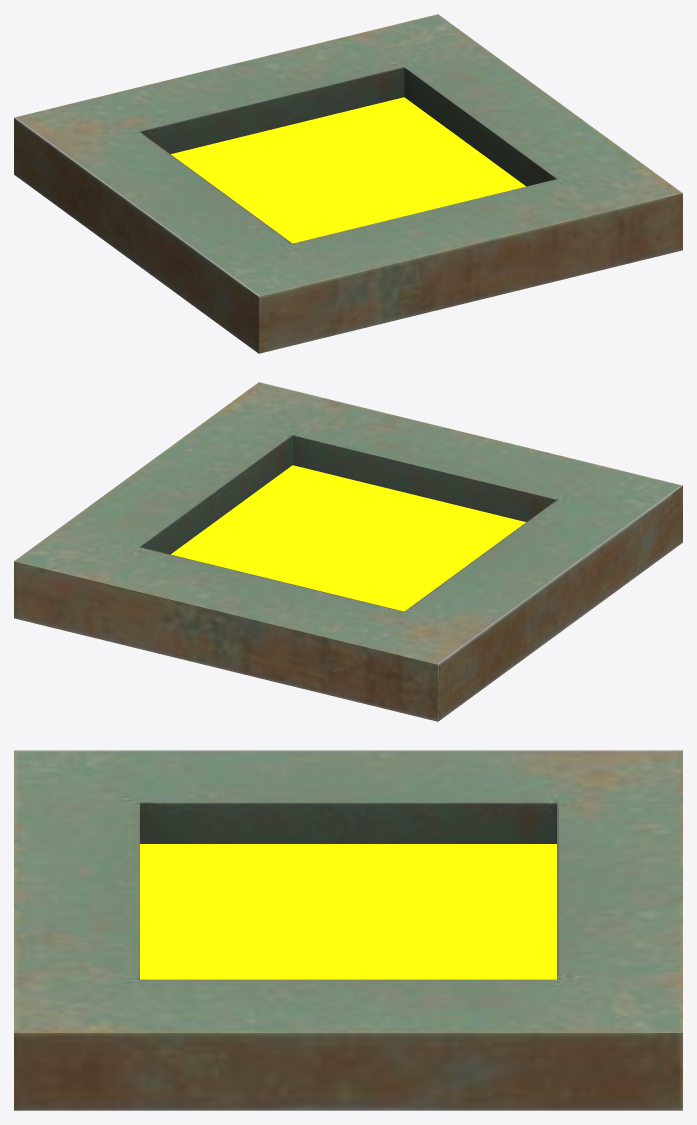
3 views of the same model, one above another, from view 1: azimuth 30°, elevation 25°; view 2: azimuth 150°, elevation 25°; view 3: azimuth 270°, elevation 25° (orthographic). The views are drawn at different scales.
Visible parts, largest first — view 1: steampunkPickupAmmoBase; view 2: steampunkPickupAmmoBase; view 3: steampunkPickupAmmoBase.
Part boxes in pixels (x1=…): steampunkPickupAmmoBase: x1=14, y1=14, x2=682, y2=353; steampunkPickupAmmoBase: x1=14, y1=382, x2=682, y2=721; steampunkPickupAmmoBase: x1=14, y1=750, x2=682, y2=1110.
Bounding box in the file's own units: 0.4835 × 0.0621 × 0.4835.
2 materials, 1 textured.
